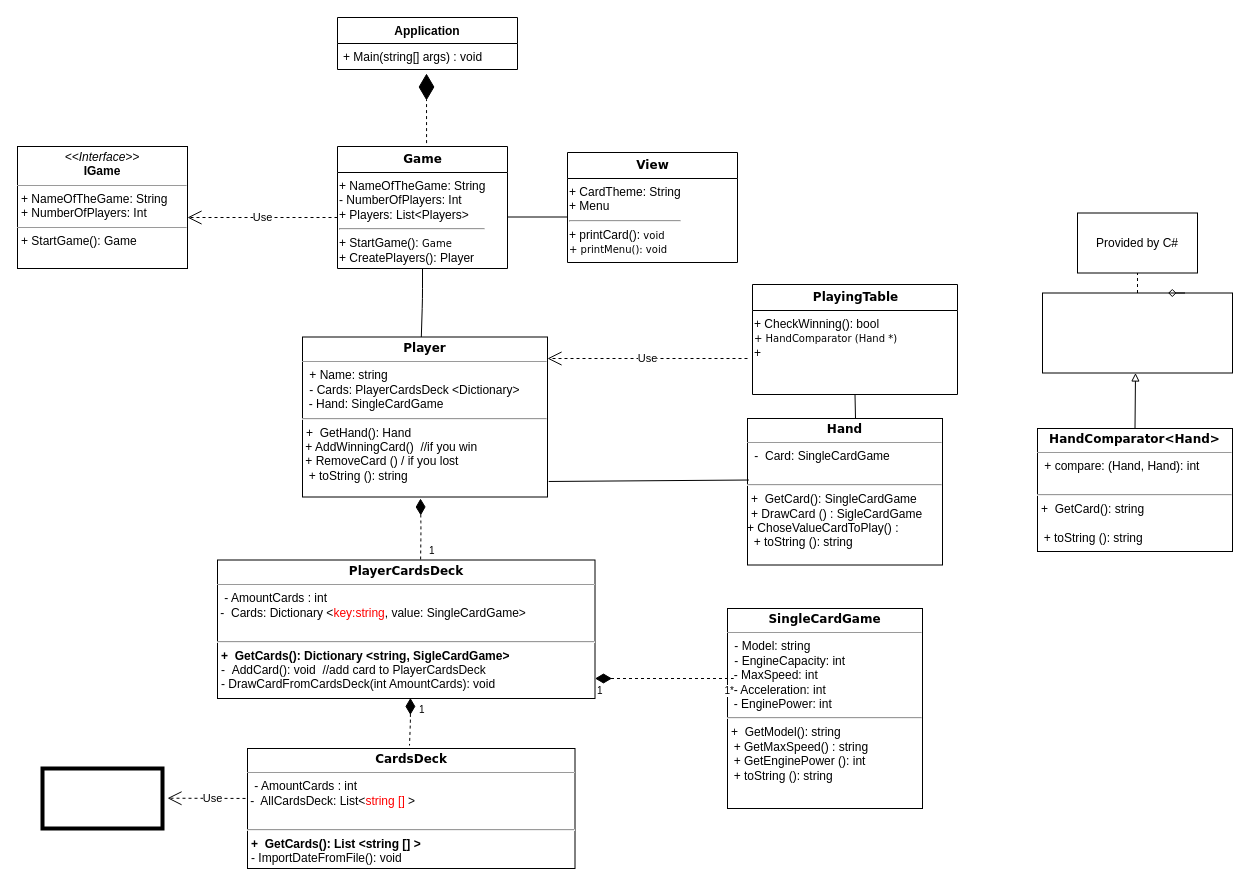
Image size: 1250x886. Some labels were removed from this diagram. Here are the shapes that lost their labels. From the top down, the centre of each, then its label:
At pixel 1137 332: "<<Interface>> IComparable + compareTo(object): int".
At pixel 102 798: "DataFile".
